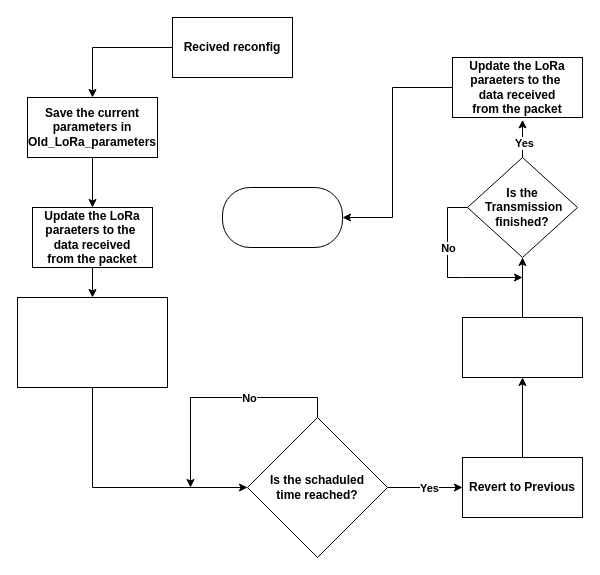
Image size: 600x575. Some labels were removed from this diagram. The centre of each missing label's shape, as x and y in pixels:
"End" belongs at (x=282, y=217).
"Get a random time from 5000ms - 10000ms And schadule a retransmission" belongs at (x=92, y=342).
"Initiate a Non-blocking packet transmission" belongs at (x=522, y=347).
